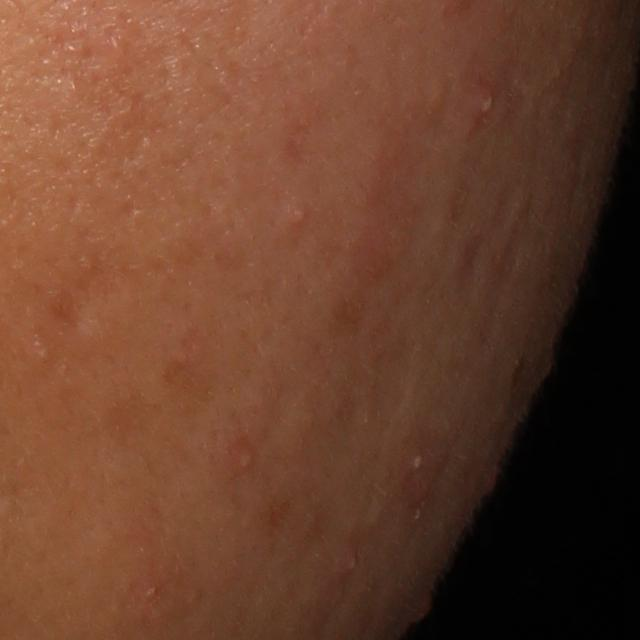comedo: (31, 341, 54, 363)
pustule: (474, 82, 498, 123)
